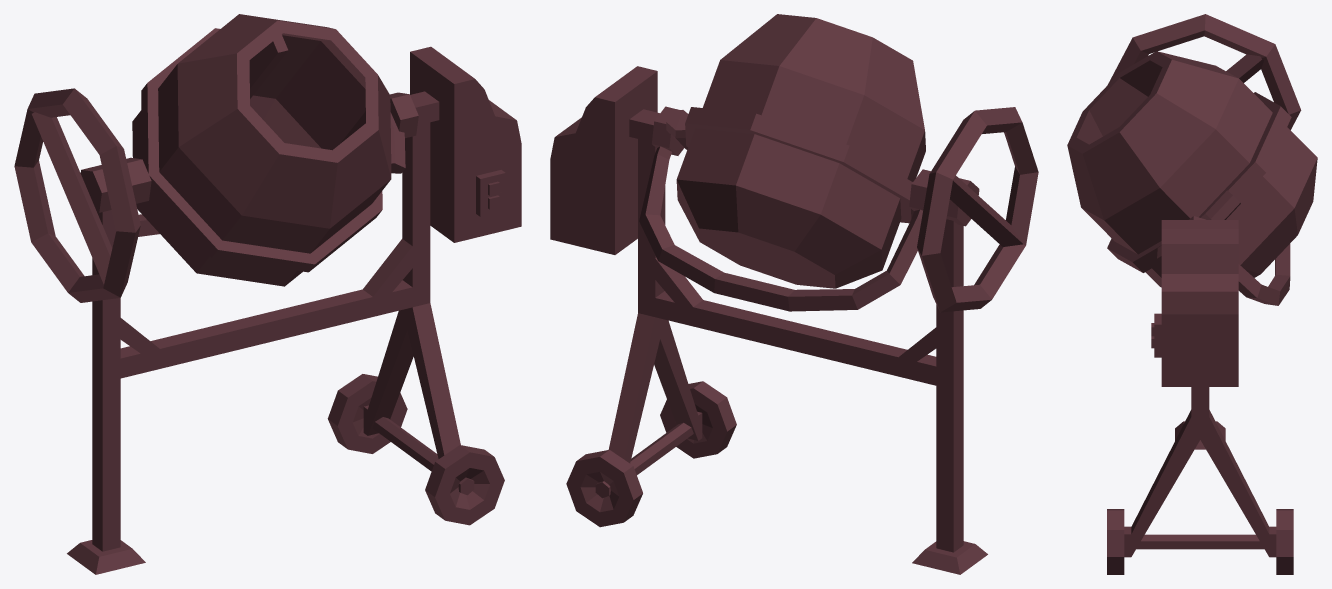
File: concrete-mixer.fbx
3 views of the same model, side by side, from view 1: azimuth 30°, elevation 25°; view 2: azimuth 150°, elevation 25°; view 3: azimuth 270°, elevation 25° (orthographic). The views are drawn at different scales.
Visible parts, largest first — view 1: concrete-mixer; view 2: concrete-mixer; view 3: concrete-mixer.
Part boxes in pixels (x1,y1,x2,y2): concrete-mixer: (14, 14, 521, 574); concrete-mixer: (550, 14, 1038, 574); concrete-mixer: (1067, 14, 1317, 574).
Bounding box in the file's own units: 1.25 × 1.42 × 0.7187.
